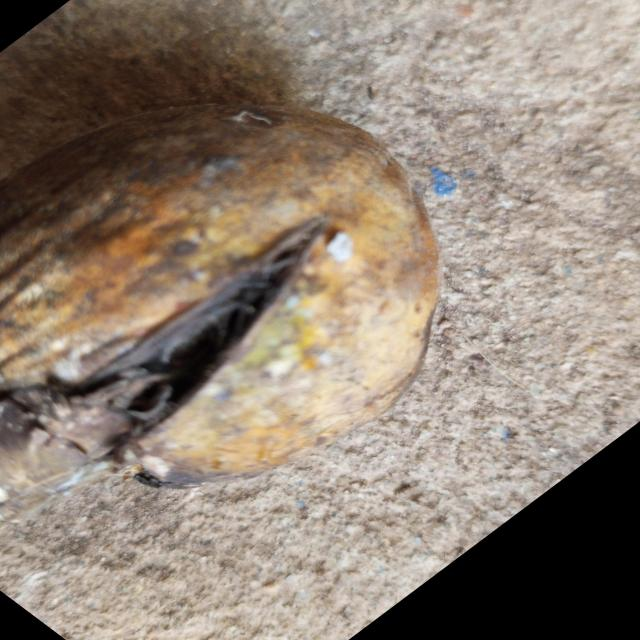damaged: (0, 104, 439, 497)
